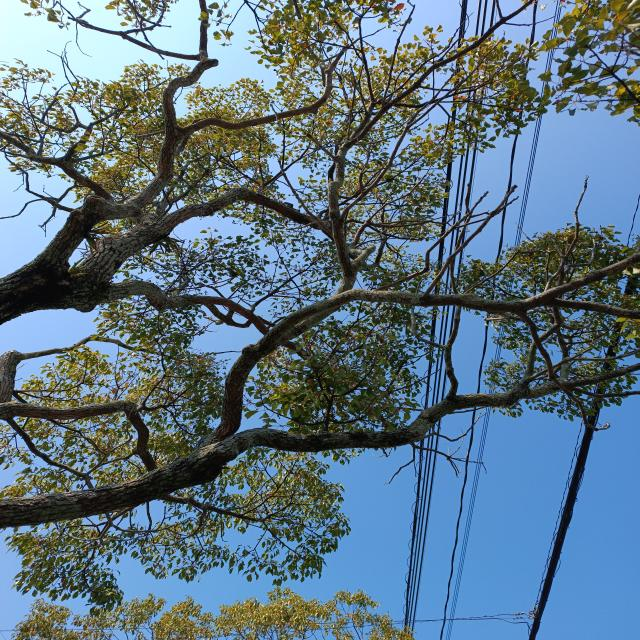Branch: (37, 53, 218, 273), (0, 398, 270, 521), (220, 377, 569, 463), (0, 443, 224, 526), (185, 39, 356, 137), (278, 138, 355, 344), (260, 289, 554, 341), (1, 335, 174, 403), (100, 279, 271, 336), (199, 338, 279, 447), (159, 187, 330, 237), (0, 130, 114, 202), (349, 219, 376, 269)
Twig: (350, 0, 535, 148), (341, 79, 449, 220), (372, 195, 485, 291), (422, 187, 514, 294), (5, 417, 95, 490), (68, 17, 200, 60), (273, 146, 333, 238), (535, 251, 640, 297), (348, 0, 376, 139), (368, 164, 431, 220), (544, 299, 639, 319), (372, 215, 454, 225), (199, 0, 208, 54), (282, 220, 316, 230), (399, 199, 405, 220)
